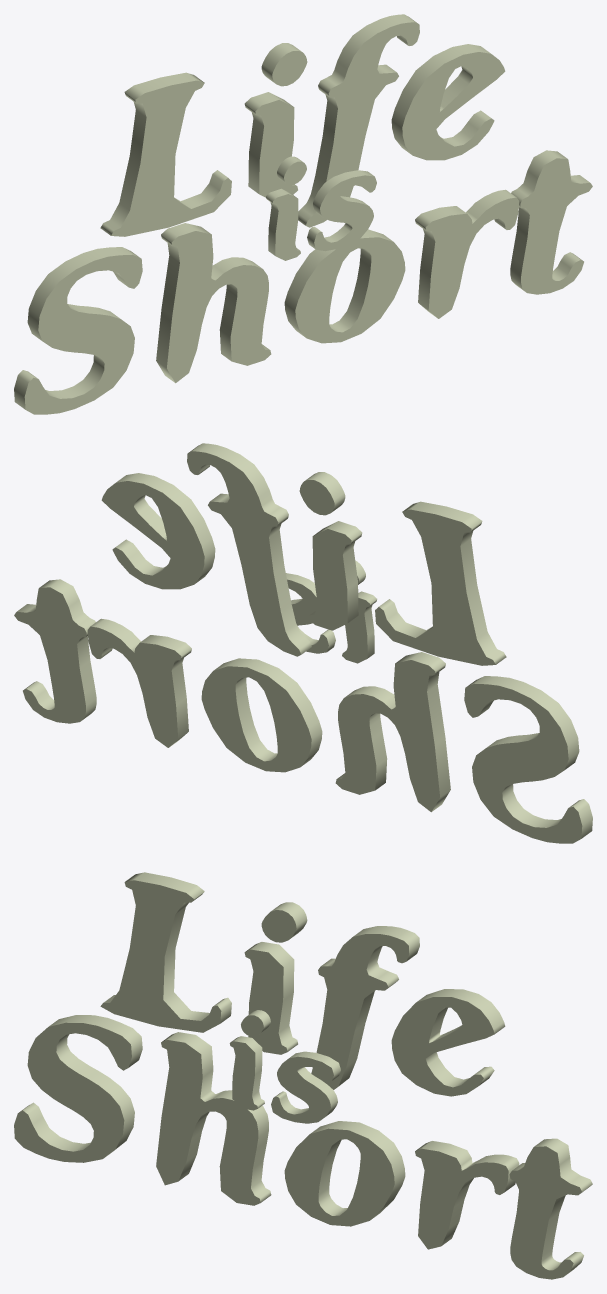
The model's file is lis.dae.
The picture shows the model from 3 angles, top to bottom: view 1: azimuth 30°, elevation 25°; view 2: azimuth 150°, elevation 25°; view 3: azimuth 330°, elevation 25°; orthographic projection.
Parts seen in each view (by area): view 1: text2-0, text1-0, text3-0; view 2: text2-0, text1-0, text3-0; view 3: text2-0, text1-0, text3-0.
Boxes of the visible parts, box(x1,y1,x2,y2) form: text2-0: box(14, 150, 592, 414); text1-0: box(100, 14, 505, 236); text3-0: box(266, 156, 376, 260); text2-0: box(14, 579, 592, 843); text1-0: box(101, 443, 506, 665); text3-0: box(286, 560, 377, 663); text2-0: box(14, 1015, 592, 1279); text1-0: box(100, 872, 505, 1096); text3-0: box(229, 1010, 340, 1123).
Bounding box in the file's own units: 6.12 × 3.15 × 0.5018.
